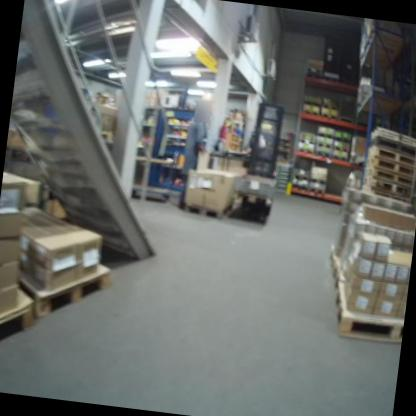pallet: (16, 251, 115, 323), (330, 284, 407, 344), (0, 289, 38, 357), (181, 201, 232, 221), (370, 178, 413, 201), (373, 157, 415, 177), (373, 170, 415, 188), (374, 136, 416, 154), (374, 148, 415, 166), (309, 176, 327, 186), (316, 130, 334, 139), (315, 140, 333, 149), (309, 186, 325, 196), (303, 99, 321, 107), (320, 112, 338, 120), (330, 154, 348, 162), (321, 102, 338, 110), (297, 146, 314, 154), (291, 182, 308, 190), (299, 137, 315, 145), (303, 109, 320, 116), (334, 135, 351, 142), (333, 145, 349, 152), (293, 174, 309, 181), (316, 151, 331, 158)
pallet_truck: (234, 96, 291, 220)
